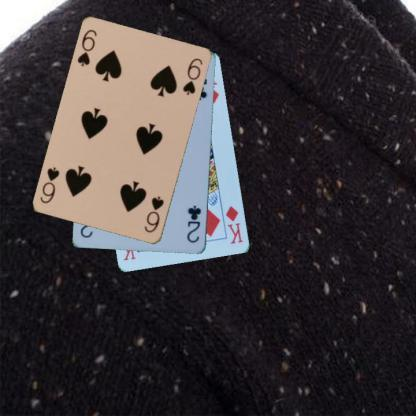2c: (184, 203, 203, 245)
6s: (74, 27, 99, 68), (142, 194, 165, 235)
Kd: (223, 202, 245, 245)
